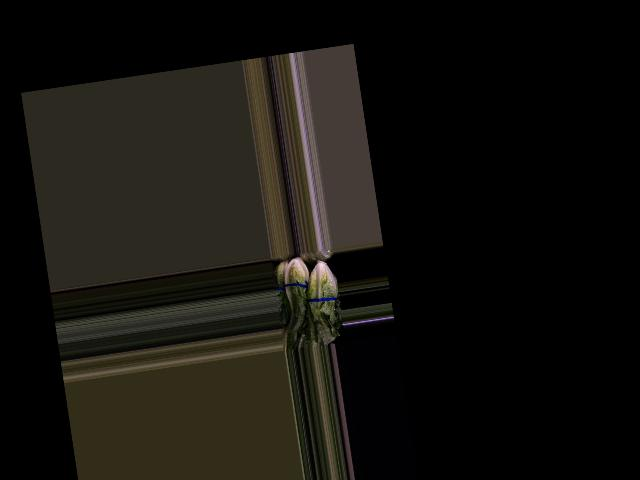lettuce: (274, 254, 317, 334)
